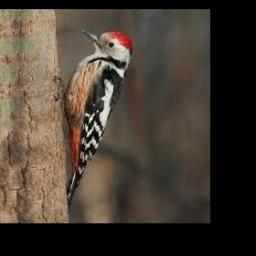Woodpecker: (54, 30, 133, 210)
